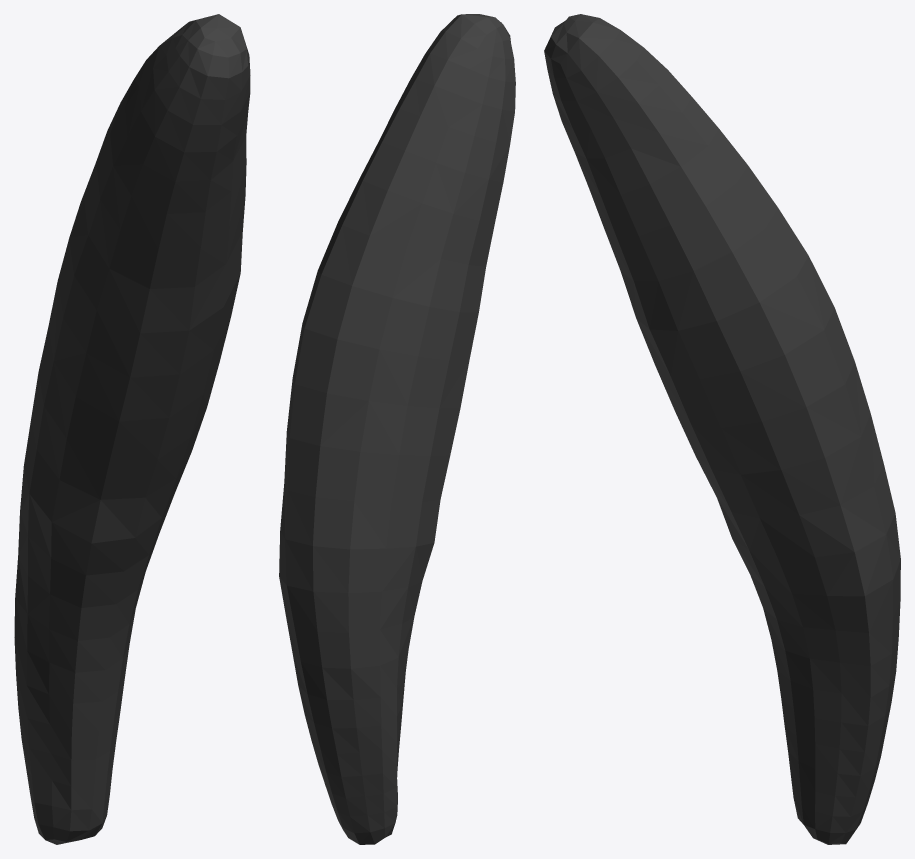
3 renders of one model, left to right at view 1: azimuth 30°, elevation 25°; view 2: azimuth 150°, elevation 25°; view 3: azimuth 270°, elevation 25°, orthographic. The views are drawn at different scales.
Visible parts, largest first — view 1: world; view 2: world; view 3: world.
Part boxes in pixels (bbox=[...]): world: bbox=[14, 14, 250, 844]; world: bbox=[279, 14, 515, 844]; world: bbox=[544, 14, 900, 844].
Bounding box in the file's own units: 0.0396 × 0.215 × 0.0843.
1 material, 1 textured.
